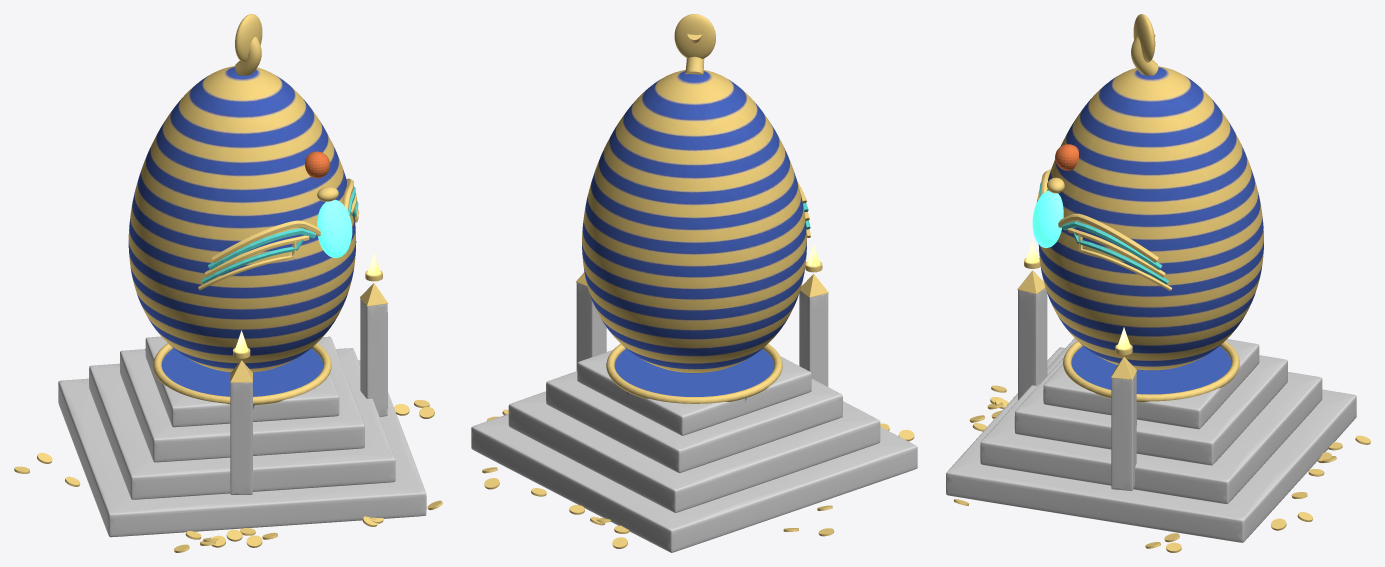
The model's file is pharaohegg.glb.
The picture shows the model from 3 angles, left to right: view 1: azimuth 30°, elevation 25°; view 2: azimuth 150°, elevation 25°; view 3: azimuth 270°, elevation 25°; orthographic projection.
Visible parts, largest first — view 1: PharaohEgg_Body, PharaohEgg_PyramidStep, PharaohEgg_PyramidStep.001, PharaohEgg_PyramidStep.002, PharaohEgg_PyramidStep.003, PharaohEgg_Cup, PharaohEgg_Obelisk, PharaohEgg_Obelisk.001, PharaohEgg_GoldRim, PharaohEgg_ScarabBody, PharaohEgg_CobraHood, PharaohEgg_ScarabWing.005 (+6 smaller); view 2: PharaohEgg_Body, PharaohEgg_PyramidStep, PharaohEgg_PyramidStep.001, PharaohEgg_PyramidStep.002, PharaohEgg_PyramidStep.003, PharaohEgg_Cup, PharaohEgg_Obelisk.001, PharaohEgg_GoldRim, PharaohEgg_Obelisk, PharaohEgg_CobraHood; view 3: PharaohEgg_Body, PharaohEgg_PyramidStep, PharaohEgg_PyramidStep.001, PharaohEgg_PyramidStep.002, PharaohEgg_PyramidStep.003, PharaohEgg_Cup, PharaohEgg_Obelisk.001, PharaohEgg_Obelisk, PharaohEgg_GoldRim, PharaohEgg_ScarabBody, PharaohEgg_ScarabWing, PharaohEgg_CobraHood (+6 smaller).
Part boxes in pixels (<box>): PharaohEgg_Body: <box>128,66,356,372</box>; PharaohEgg_PyramidStep: <box>58,360,426,537</box>; PharaohEgg_PyramidStep.001: <box>89,348,395,499</box>; PharaohEgg_PyramidStep.002: <box>119,336,364,462</box>; PharaohEgg_PyramidStep.003: <box>145,336,339,427</box>; PharaohEgg_Cup: <box>161,348,322,408</box>; PharaohEgg_Obelisk: <box>360,299,387,416</box>; PharaohEgg_Obelisk.001: <box>230,382,252,494</box>; PharaohEgg_GoldRim: <box>153,343,331,405</box>; PharaohEgg_ScarabBody: <box>317,199,352,258</box>; PharaohEgg_CobraHood: <box>235,14,262,62</box>; PharaohEgg_ScarabWing.005: <box>211,220,320,262</box>; PharaohEgg_Body: <box>582,70,806,373</box>; PharaohEgg_PyramidStep: <box>471,414,917,552</box>; PharaohEgg_PyramidStep.001: <box>508,391,880,512</box>; PharaohEgg_PyramidStep.002: <box>546,371,842,472</box>; PharaohEgg_PyramidStep.003: <box>577,350,811,435</box>; PharaohEgg_Cup: <box>614,349,774,401</box>; PharaohEgg_Obelisk.001: <box>799,291,828,386</box>; PharaohEgg_GoldRim: <box>606,343,782,403</box>; PharaohEgg_Obelisk: <box>576,282,606,370</box>; PharaohEgg_CobraHood: <box>674,14,715,58</box>; PharaohEgg_Body: <box>1038,66,1263,370</box>; PharaohEgg_PyramidStep: <box>946,347,1356,542</box>; PharaohEgg_PyramidStep.001: <box>980,338,1322,504</box>; PharaohEgg_PyramidStep.002: <box>1014,355,1287,465</box>; PharaohEgg_PyramidStep.003: <box>1043,339,1259,429</box>; PharaohEgg_Cup: <box>1071,346,1231,394</box>; PharaohEgg_Obelisk.001: <box>1018,288,1047,399</box>; PharaohEgg_Obelisk: <box>1111,372,1136,490</box>; PharaohEgg_GoldRim: <box>1063,341,1239,402</box>; PharaohEgg_ScarabBody: <box>1032,190,1063,248</box>; PharaohEgg_ScarabWing: <box>1058,213,1158,262</box>; PharaohEgg_CobraHood: <box>1133,14,1155,62</box>.
Bounding box in the file's own units: 4.91 × 5.53 × 4.79.
Materials: 8 (1 with a texture image).
